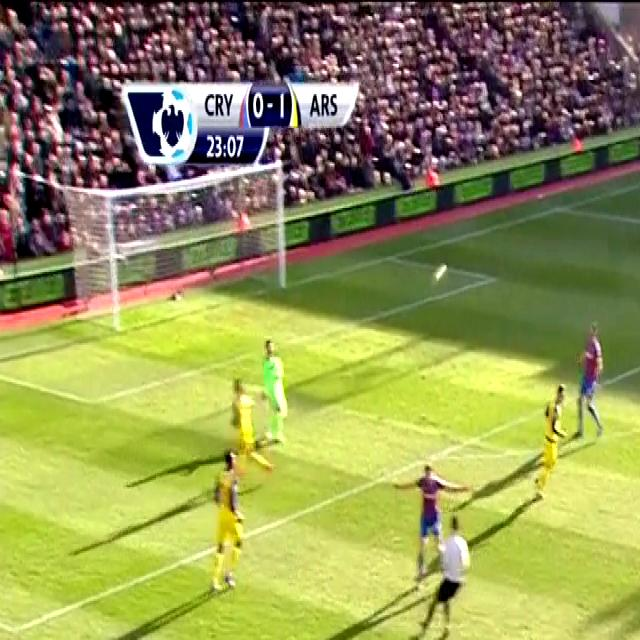ball: (254, 331, 299, 452), (428, 261, 450, 288)
referee: (416, 515, 476, 640)
soccer-player: (396, 452, 474, 578), (206, 450, 260, 605), (569, 315, 612, 435), (525, 387, 571, 499), (228, 378, 277, 476)
